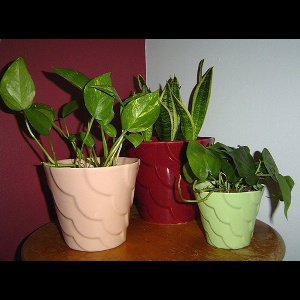flowerpot: (41, 156, 144, 251), (121, 130, 216, 227), (189, 177, 266, 249)
